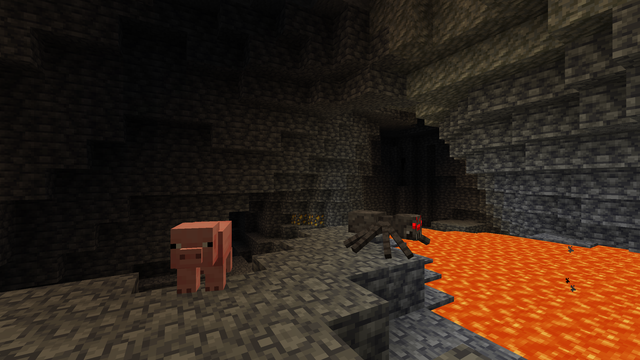araignees: (347, 206, 432, 260)
cochons: (175, 218, 242, 297)
endermens: (400, 157, 404, 185)
